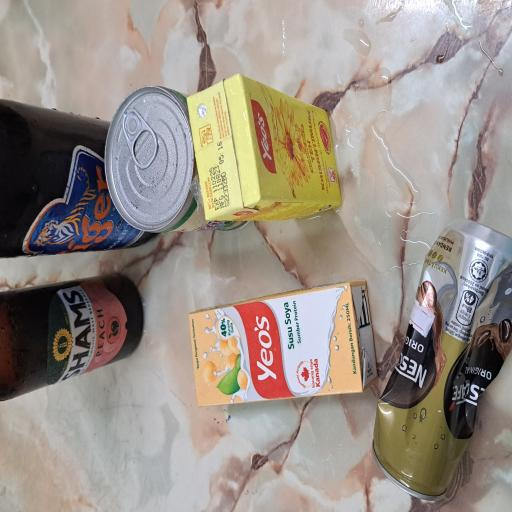can: (213, 138, 321, 327)
drink carton: (74, 256, 174, 500), (212, 248, 326, 458)
glass bottle: (188, 0, 308, 223), (77, 0, 181, 202)
pop tab: (255, 158, 312, 212)
